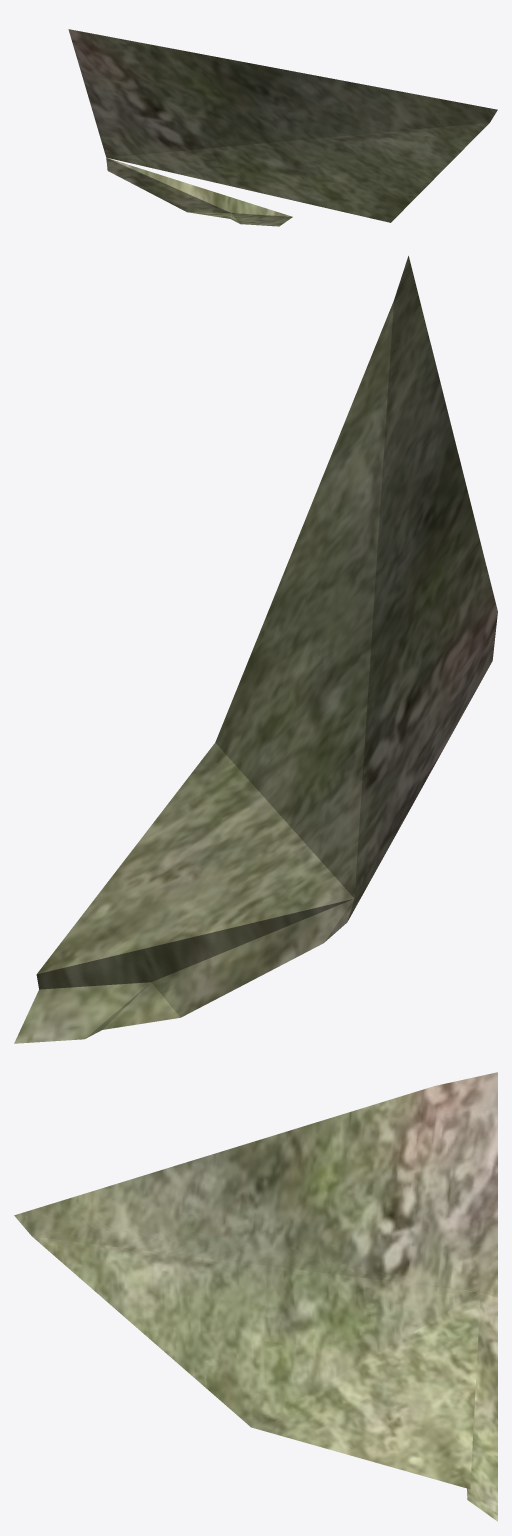
3 renders of one model, top to bottom at view 1: azimuth 30°, elevation 25°; view 2: azimuth 150°, elevation 25°; view 3: azimuth 270°, elevation 25°, orthographic. The views are drawn at different scales.
Size of the model in its own units: 2.02 by 2.02 by 2.89.
2 materials, 2 textured.
